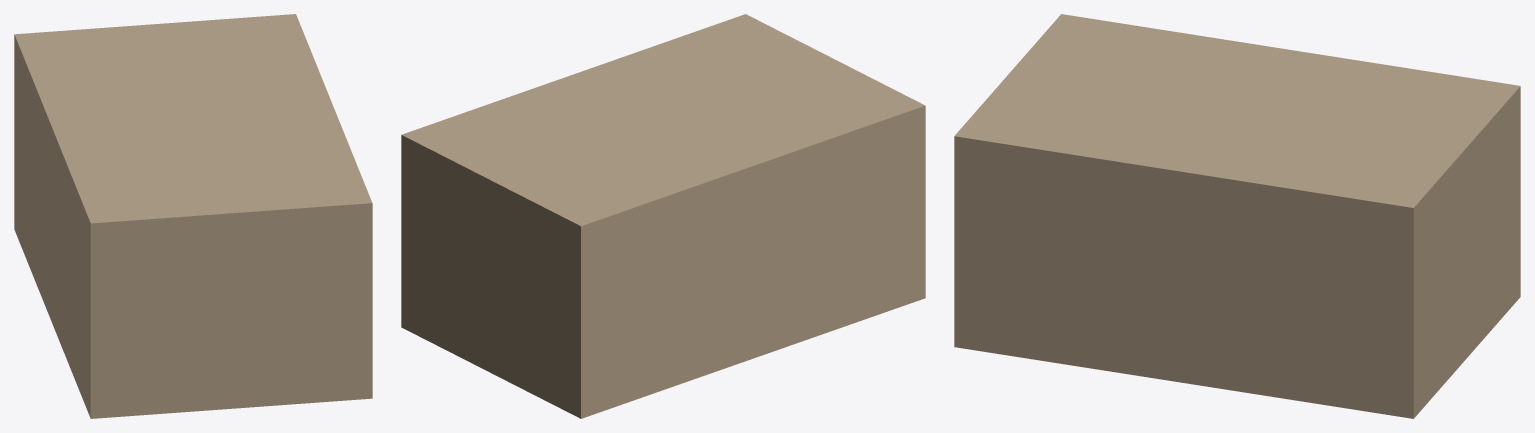
The model's file is bld_101524556.dae.
3 renders of one model, left to right at view 1: azimuth 30°, elevation 25°; view 2: azimuth 150°, elevation 25°; view 3: azimuth 270°, elevation 25°, orthographic. The views are drawn at different scales.
Parts seen in each view (by area): view 1: bld_101524556; view 2: bld_101524556; view 3: bld_101524556.
Boxes of the visible parts, <box> form: bld_101524556: <box>14,14,372,418</box>; bld_101524556: <box>401,14,925,418</box>; bld_101524556: <box>954,14,1520,418</box>.
Bounding box in the file's own units: 15.78 × 19.47 × 8.
